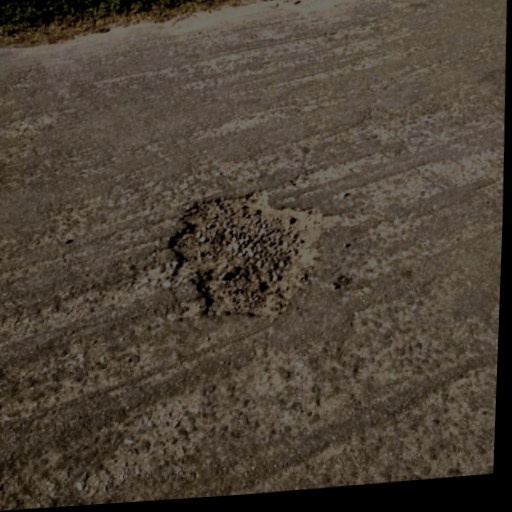pothole: (162, 182, 348, 330)
